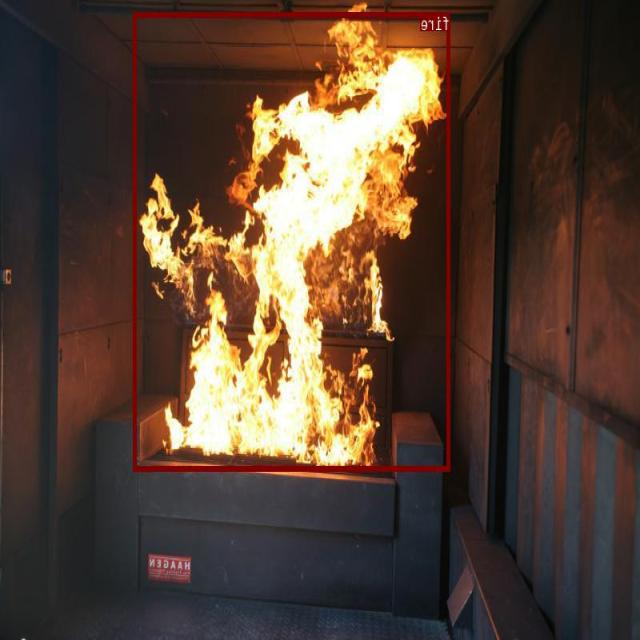fire: (134, 11, 451, 470)
